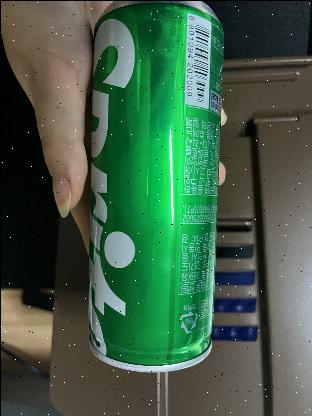Can: (84, 0, 224, 373)
